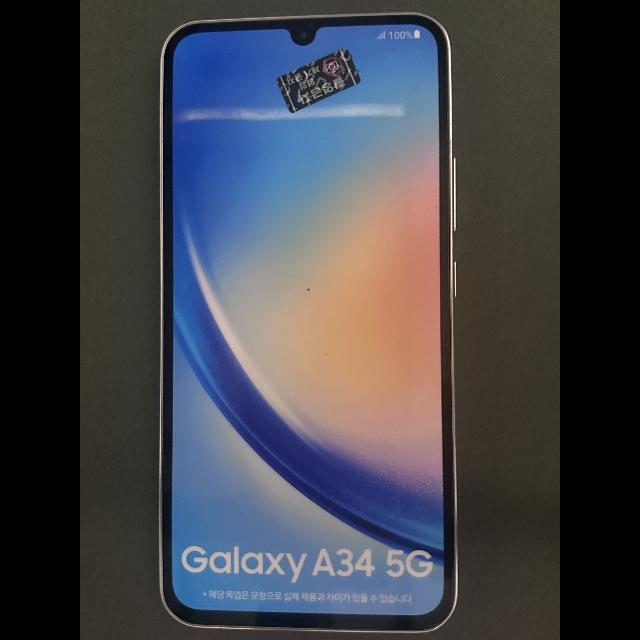lens: (297, 30, 309, 42)
phone: (159, 11, 459, 633)
sticker: (276, 48, 361, 113)
